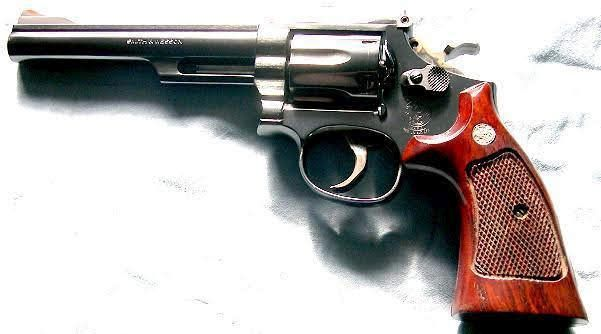gun: (7, 7, 580, 318)
